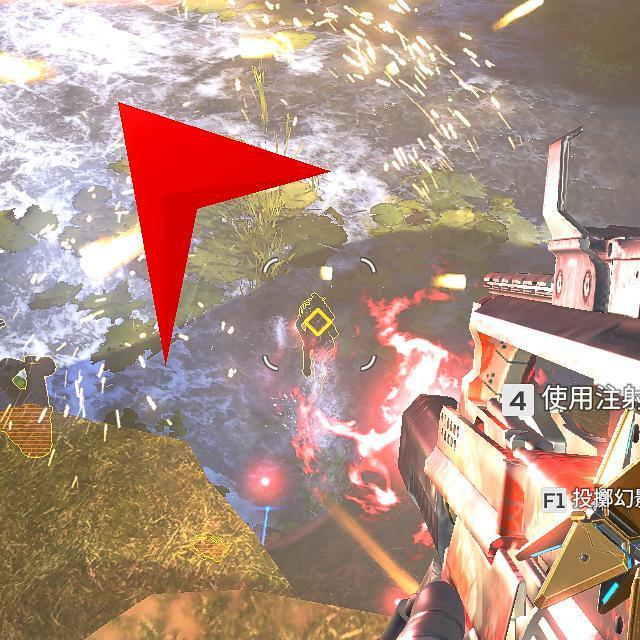avatar: (295, 291, 340, 378)
object: (303, 307, 333, 337)
